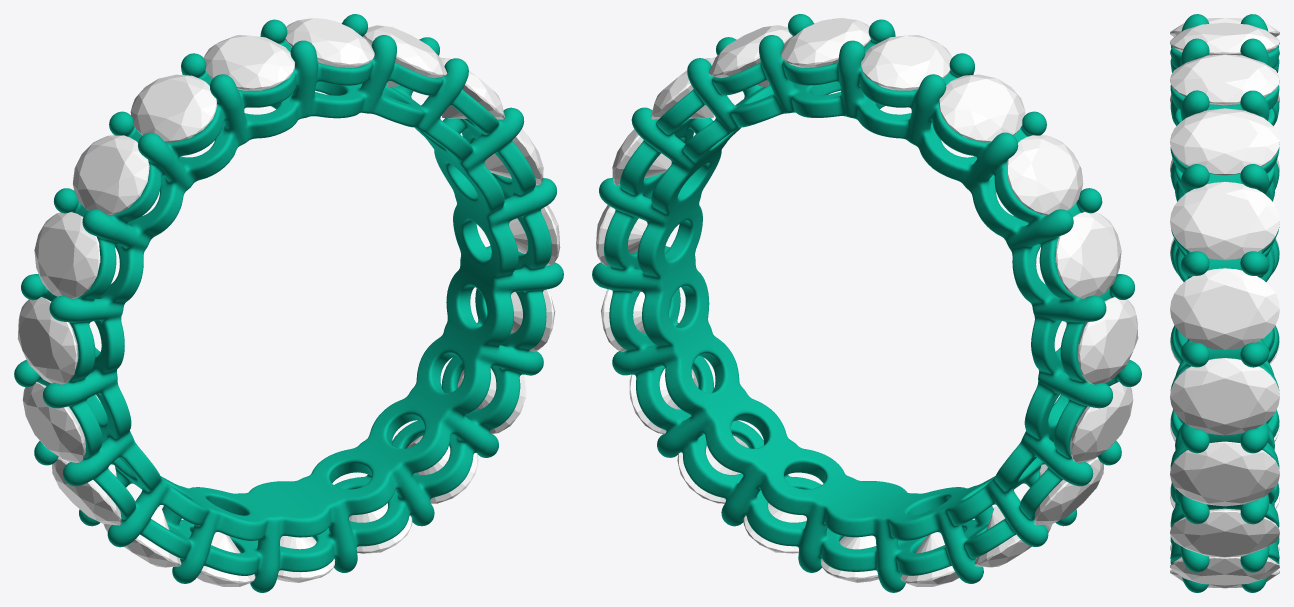
Rendered from BE2D400OVE_RENDER.glb.
3 views of the same model, side by side, from view 1: azimuth 30°, elevation 25°; view 2: azimuth 150°, elevation 25°; view 3: azimuth 270°, elevation 25° (orthographic). The views are drawn at different scales.
Visible parts, largest first — view 1: Metal03, Diamond_Oval_Gem_BD.002, Diamond_Oval_Gem_BD.001, Diamond_Oval_Gem_BD.003, Diamond_Oval_Gem_BD, Diamond_Oval_Gem_BD.004, Diamond_Oval_Gem_BD.018, Diamond_Oval_Gem_BD.005, Diamond_Oval_Gem_BD.017, Diamond_Oval_Gem_BD.006, Diamond_Oval_Gem_BD.007, Diamond_Oval_Gem_BD.016 (+8 smaller); view 2: Metal03, Diamond_Oval_Gem_BD.002, Diamond_Oval_Gem_BD.001, Diamond_Oval_Gem_BD.003, Diamond_Oval_Gem_BD, Diamond_Oval_Gem_BD.004, Diamond_Oval_Gem_BD.018, Diamond_Oval_Gem_BD.005, Diamond_Oval_Gem_BD.017, Diamond_Oval_Gem_BD.006, Diamond_Oval_Gem_BD.016, Diamond_Oval_Gem_BD.007 (+8 smaller); view 3: Metal03, Diamond_Oval_Gem_BD.015, Diamond_Oval_Gem_BD.016, Diamond_Oval_Gem_BD.014, Diamond_Oval_Gem_BD.017, Diamond_Oval_Gem_BD.013, Diamond_Oval_Gem_BD.018, Diamond_Oval_Gem_BD.012, Diamond_Oval_Gem_BD, Diamond_Oval_Gem_BD.011, Diamond_Oval_Gem_BD.001, Diamond_Oval_Gem_BD.010.
Part boxes in pixels (x1,y1,x2,y2): Metal03: [14, 14, 563, 592]; Diamond_Oval_Gem_BD.002: [73, 135, 149, 215]; Diamond_Oval_Gem_BD.001: [130, 74, 217, 142]; Diamond_Oval_Gem_BD.003: [34, 212, 100, 298]; Diamond_Oval_Gem_BD: [203, 35, 294, 90]; Diamond_Oval_Gem_BD.004: [17, 297, 78, 384]; Diamond_Oval_Gem_BD.018: [285, 18, 374, 67]; Diamond_Oval_Gem_BD.005: [22, 382, 85, 462]; Diamond_Oval_Gem_BD.017: [363, 25, 447, 86]; Diamond_Oval_Gem_BD.006: [52, 457, 121, 525]; Diamond_Oval_Gem_BD.007: [103, 506, 181, 567]; Diamond_Oval_Gem_BD.016: [441, 58, 504, 119]; Metal03: [592, 14, 1141, 592]; Diamond_Oval_Gem_BD.002: [1006, 135, 1083, 214]; Diamond_Oval_Gem_BD.001: [938, 74, 1025, 142]; Diamond_Oval_Gem_BD.003: [1055, 212, 1121, 298]; Diamond_Oval_Gem_BD: [861, 35, 952, 90]; Diamond_Oval_Gem_BD.004: [1077, 297, 1138, 384]; Diamond_Oval_Gem_BD.018: [781, 18, 871, 67]; Diamond_Oval_Gem_BD.005: [1070, 382, 1133, 462]; Diamond_Oval_Gem_BD.017: [708, 25, 792, 86]; Diamond_Oval_Gem_BD.006: [1034, 457, 1103, 525]; Diamond_Oval_Gem_BD.016: [651, 57, 714, 119]; Diamond_Oval_Gem_BD.007: [974, 506, 1052, 567]; Metal03: [1170, 14, 1279, 592]; Diamond_Oval_Gem_BD.015: [1170, 268, 1279, 349]; Diamond_Oval_Gem_BD.016: [1170, 182, 1279, 260]; Diamond_Oval_Gem_BD.014: [1170, 358, 1279, 435]; Diamond_Oval_Gem_BD.017: [1170, 108, 1279, 175]; Diamond_Oval_Gem_BD.013: [1170, 441, 1279, 506]; Diamond_Oval_Gem_BD.018: [1170, 55, 1279, 105]; Diamond_Oval_Gem_BD.012: [1170, 508, 1279, 557]; Diamond_Oval_Gem_BD: [1170, 22, 1279, 55]; Diamond_Oval_Gem_BD.011: [1170, 556, 1279, 585]; Diamond_Oval_Gem_BD.001: [1170, 18, 1279, 36]; Diamond_Oval_Gem_BD.010: [1170, 569, 1279, 588].
Size of the model in its own units: 22.67 by 22.59 by 4.3.
